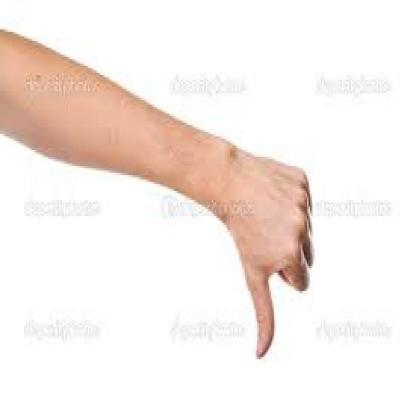thumb_down: (236, 151, 318, 366)
